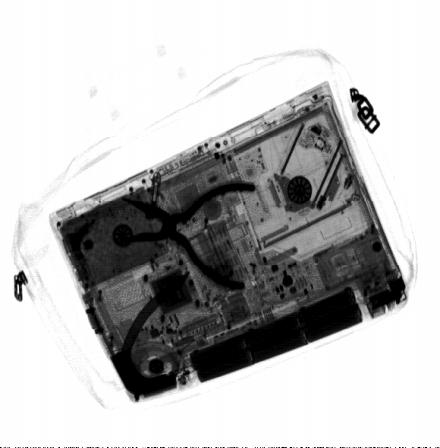Pliers: (118, 178, 259, 293)
